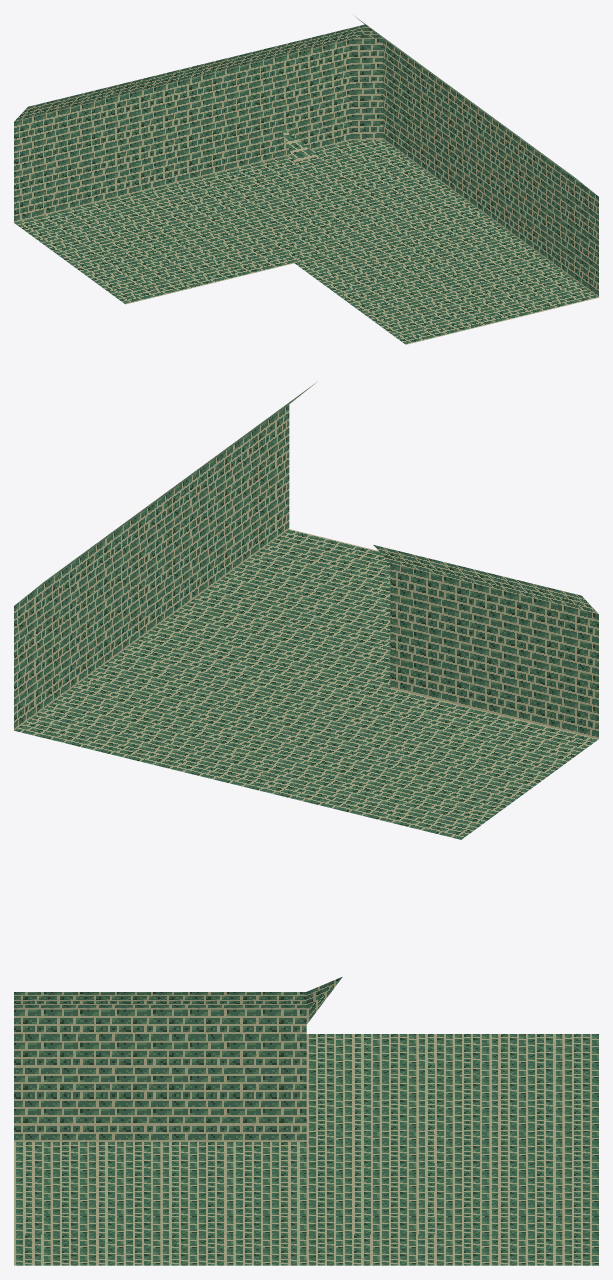
The model's file is TunnelSide.gltf.
3 renders of one model, top to bottom at view 1: azimuth 30°, elevation 25°; view 2: azimuth 150°, elevation 25°; view 3: azimuth 270°, elevation 25°, orthographic. The views are drawn at different scales.
Size of the model in its own units: 15 by 5 by 16.
2 materials, 2 textured.
